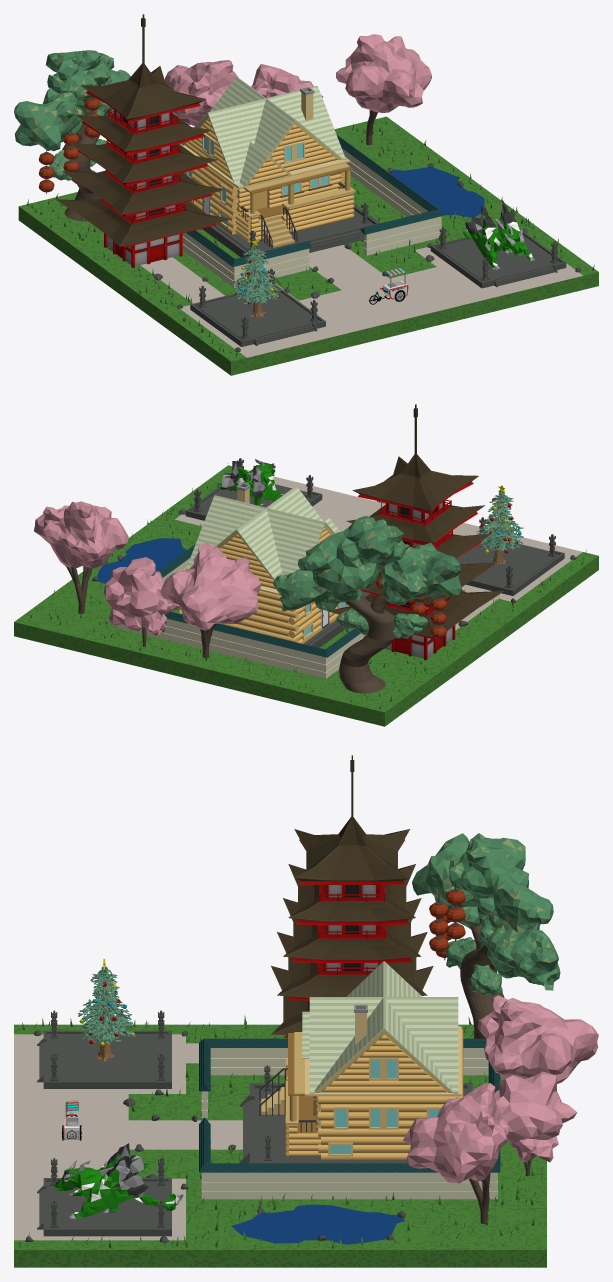
The picture shows the model from 3 angles, top to bottom: view 1: azimuth 30°, elevation 25°; view 2: azimuth 150°, elevation 25°; view 3: azimuth 270°, elevation 25°; orthographic projection. The views are drawn at different scales.
Visible parts, largest first — view 1: Cube.005, Cube.1516, ANIMAL_DRAGON, OBJRANDOM_CHRISTMAS_TREE, VEHICLES_SNOWBAL_BIKE; view 2: Cube.005, Cube.1516, OBJRANDOM_CHRISTMAS_TREE, ANIMAL_DRAGON; view 3: Cube.005, Cube.1516, ANIMAL_DRAGON, OBJRANDOM_CHRISTMAS_TREE.
Boxes of the visible parts, x1,y1,x2,y2 form: Cube.005: (14, 14, 598, 375); Cube.1516: (179, 77, 355, 248); ANIMAL_DRAGON: (464, 201, 536, 269); OBJRANDOM_CHRISTMAS_TREE: (231, 239, 280, 317); VEHICLES_SNOWBAL_BIKE: (369, 268, 408, 304); Cube.005: (14, 404, 598, 726); Cube.1516: (178, 482, 360, 643); OBJRANDOM_CHRISTMAS_TREE: (476, 485, 523, 564); ANIMAL_DRAGON: (216, 459, 283, 506); Cube.005: (14, 755, 598, 1267); Cube.1516: (259, 961, 463, 1159); ANIMAL_DRAGON: (54, 1143, 183, 1218); OBJRANDOM_CHRISTMAS_TREE: (78, 958, 135, 1061).
Bounding box in the file's own units: 4528 × 2690 × 4389.
Materials: 45 (6 with a texture image).
